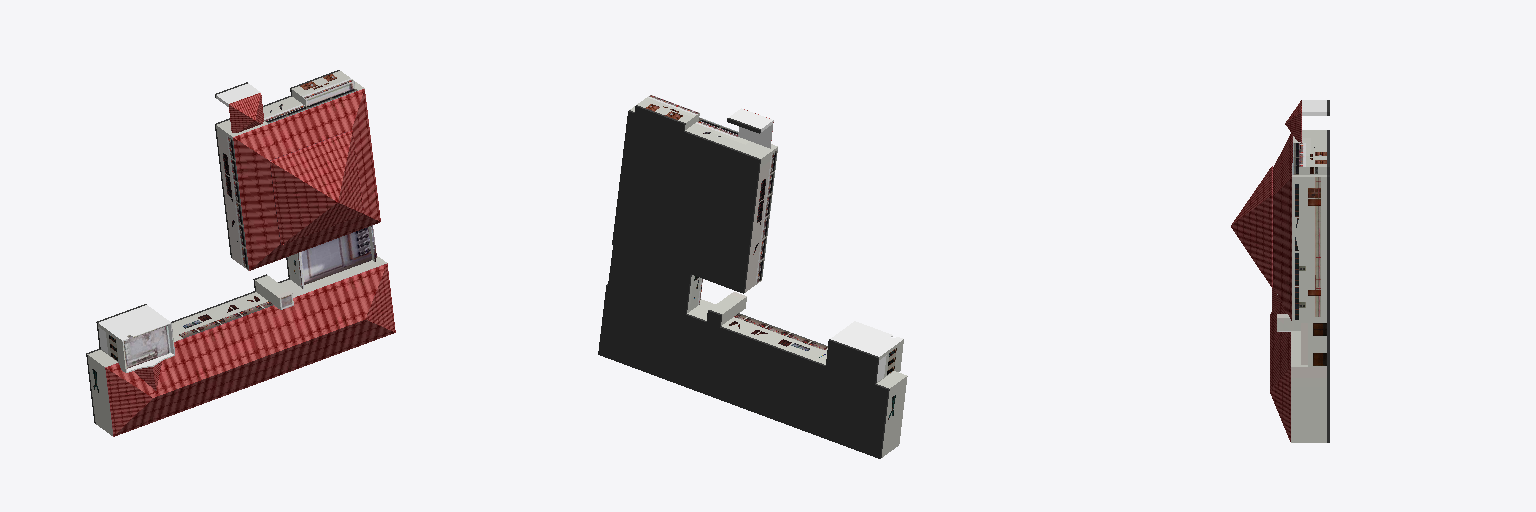
3 views of the same model, side by side, from view 1: azimuth 30°, elevation 25°; view 2: azimuth 150°, elevation 25°; view 3: azimuth 270°, elevation 25° (orthographic).
Visible parts, largest first — view 1: polygon.875; view 2: polygon.875; view 3: polygon.875.
Boxes of the visible parts, <box> form: polygon.875: <box>86,70,395,436</box>; polygon.875: <box>598,95,907,458</box>; polygon.875: <box>1231,100,1329,442</box>.
Bounding box in the file's own units: 62.55 × 62.47 × 18.49.
1 materials, 1 textured.